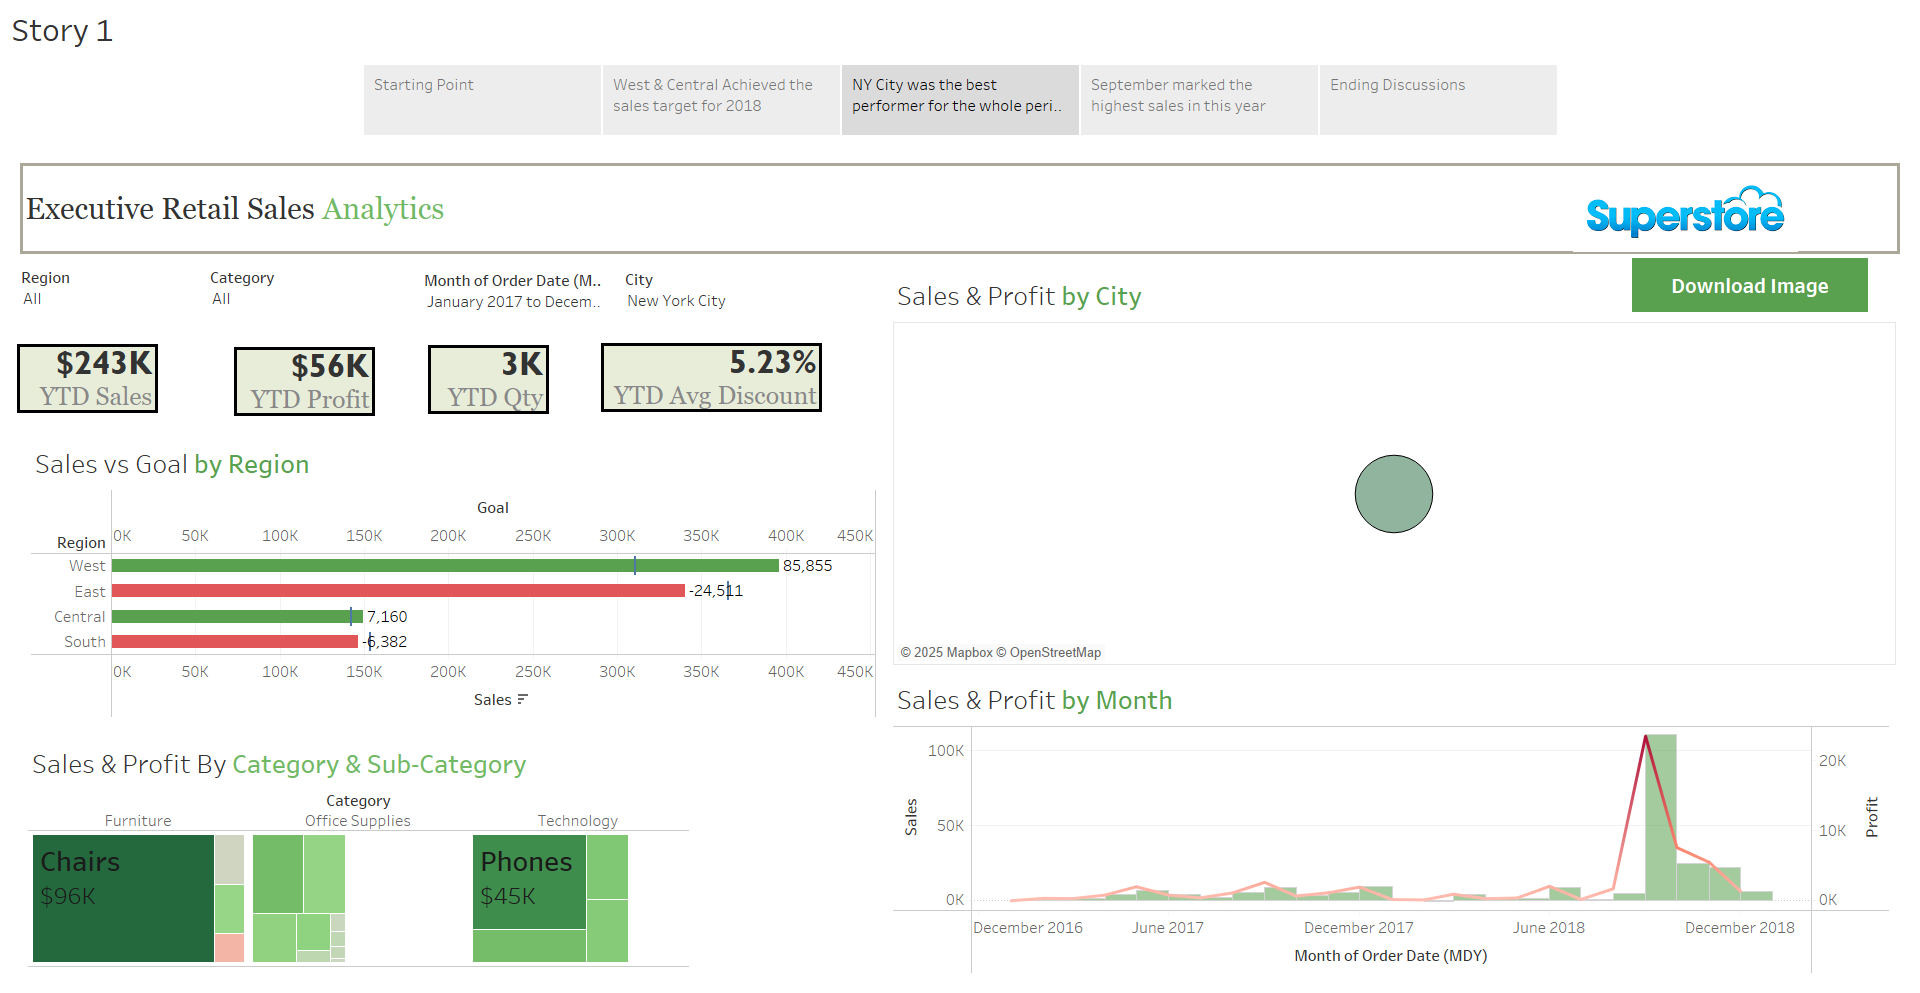

Layout of this report page (visuals, bound fields, positions):
{"tool":"tableau","page":{"name":"Dashboard 1","canvas":[1000,1000],"units":"permille","ordinal":0},"visuals":[{"type":"title","box":[4.8,10,990.3,123.6]},{"type":"image","param":"Image/t_imh.png","box":[775.5,22.5,210.6,98.6]},{"type":"dashboard-object","box":[852.8,128.6,124.3,64.9]},{"type":"filter","title":"Sheet 2","param":"[federated.1h5nw2a0w27rbx18ib2c70pwjhpy].[none:Region:nk]","box":[6.6,137.3,96.6,79.9]},{"type":"filter","title":"Sheet 3","param":"[federated.1h5nw2a0w27rbx18ib2c70pwjhpy].[none:Category:nk]","box":[106.2,137.3,97.8,83.7]},{"type":"filter","title":"Sheet 5","param":"[federated.1h5nw2a0w27rbx18ib2c70pwjhpy].[none:City:nk]","box":[324.1,139.8,124.3,73.7]},{"type":"filter","title":"Sheet 4","param":"[federated.1h5nw2a0w27rbx18ib2c70pwjhpy].[tmn:Order Date (MDY):qk]","box":[218.5,141.1,96.6,81.2]},{"type":"worksheet","title":"Sheet 5","mark":"Automatic","box":[464.7,144.8,526.9,470.7]},{"type":"worksheet","title":"Sheet 6 (4)","mark":"Automatic","box":[310.8,228.5,135.8,112.4]},{"type":"worksheet","title":"Sheet 6","mark":"Automatic","box":[4.2,229.7,108.6,99.9]},{"type":"worksheet","title":"Sheet 6 (3)","mark":"Automatic","box":[220.3,231,83.3,108.6]},{"type":"worksheet","title":"Sheet 6 (2)","mark":"Automatic","box":[118.3,233.5,89.9,98.6]},{"type":"worksheet","title":"Sheet 2","mark":"Automatic","rows":["Region"],"cols":["Sales","Goal"],"box":[12.1,347.1,443.6,333.3]},{"type":"worksheet","title":"Sheet 4","mark":"Automatic","rows":["Sales","Profit"],"cols":["Order Date (MDY)"],"box":[464.7,629.2,523.8,357.1]},{"type":"worksheet","title":"Sheet 3","mark":"Automatic","cols":["Category"],"box":[10.3,706.6,444.2,273.4]}]}

Visuals, with their boxes on the dashboard's canvas, which has no fixed pixel size, in thousandths of its width and height (x1, y1, x2, y2). These are canvas units, not pixel positions in the 1920x993 screenshot, which may show the page scaled, cropped or inside an application window:
title: locate(5, 10, 995, 134)
image: locate(776, 22, 986, 121)
dashboard-object: locate(853, 129, 977, 194)
"Sheet 2" filter: locate(7, 137, 103, 217)
"Sheet 3" filter: locate(106, 137, 204, 221)
"Sheet 5" filter: locate(324, 140, 448, 214)
"Sheet 4" filter: locate(218, 141, 315, 222)
"Sheet 5" worksheet: locate(465, 145, 992, 616)
"Sheet 6 (4)" worksheet: locate(311, 228, 447, 341)
"Sheet 6" worksheet: locate(4, 230, 113, 330)
"Sheet 6 (3)" worksheet: locate(220, 231, 304, 340)
"Sheet 6 (2)" worksheet: locate(118, 234, 208, 332)
"Sheet 2" worksheet: locate(12, 347, 456, 680)
"Sheet 4" worksheet: locate(465, 629, 988, 986)
"Sheet 3" worksheet: locate(10, 707, 454, 980)
